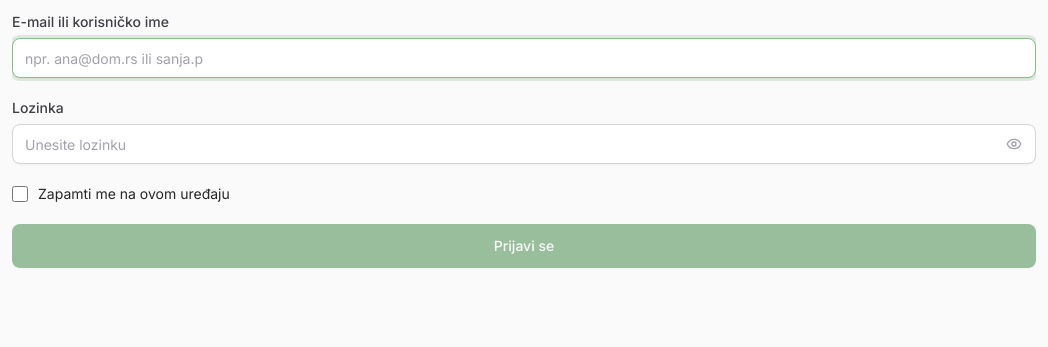
Test: SignInForm › zaključan nalog ili ukinut pristup: razlog sa servera
Type "ana@dom.rs" into the field labelled "E-mail ili korisničko ime".
click(524, 58); type("ana@dom.rs")  # box [12,38,1036,78]
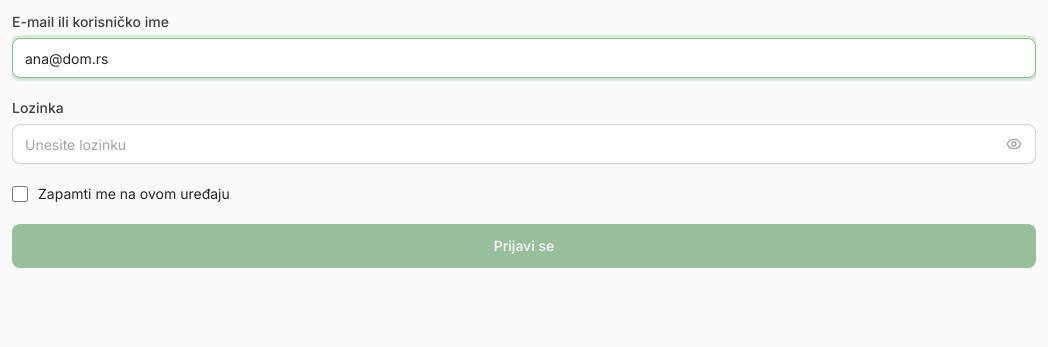
Type "tajna" into the password field labelled "Lozinka".
click(524, 144); type("tajna")  # box [12,124,1036,164]
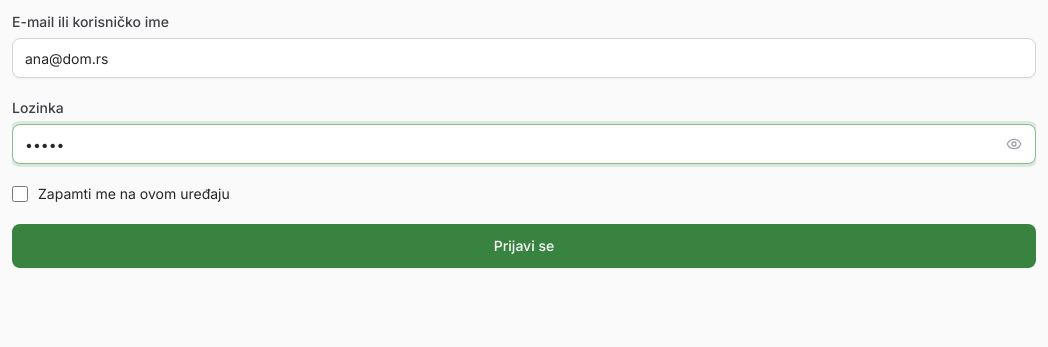
Click the button "Prijavi se".
click(524, 246)  # box [12,224,1036,268]
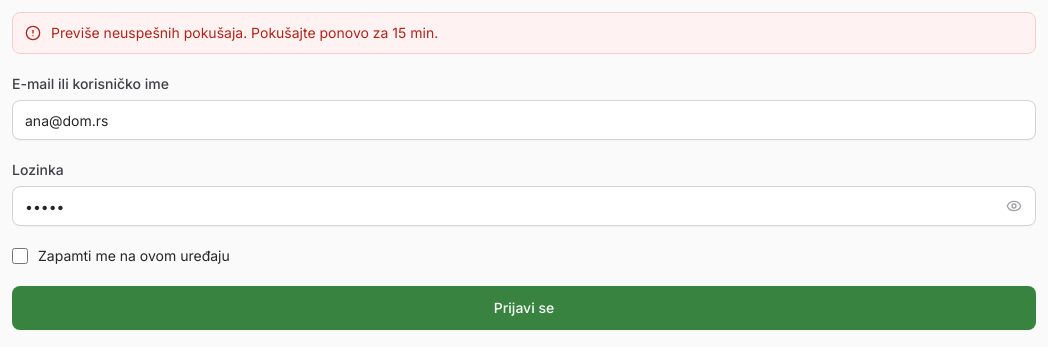
expect the message shows "Pokušajte ponovo za 15 min.": met, box [51,24,438,41]
